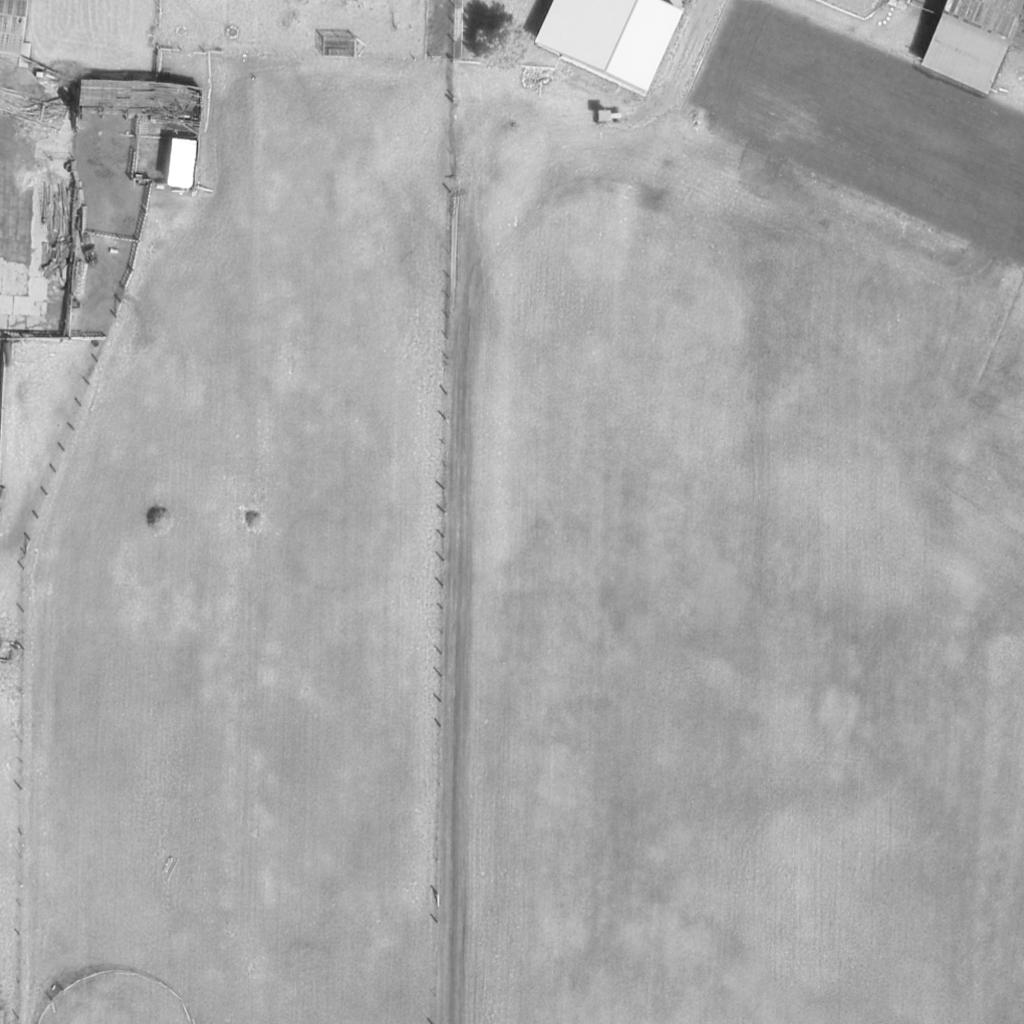vehicle: (167, 137, 199, 191), (596, 106, 626, 126)
